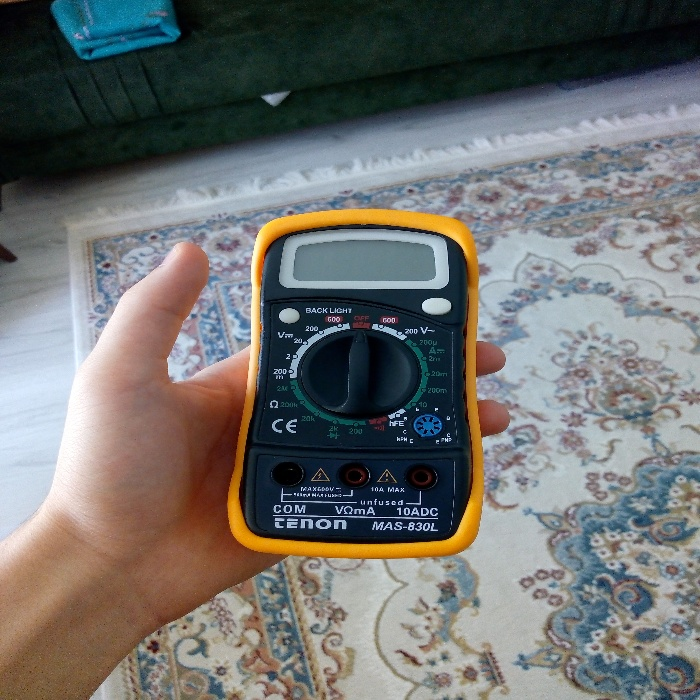multimetre: (221, 189, 488, 559)
